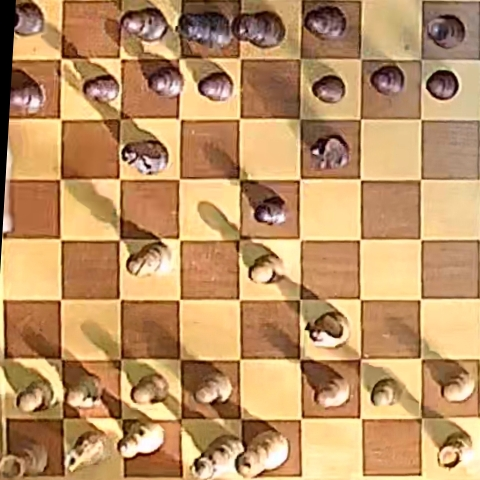black-bishop: (122, 7, 169, 41), (304, 5, 347, 39)
black-king: (232, 12, 284, 48)
black-knight: (122, 140, 168, 174), (310, 135, 349, 169)
black-pawn: (148, 66, 183, 97), (10, 82, 45, 113), (370, 65, 405, 95), (426, 70, 459, 100), (199, 72, 233, 101), (84, 75, 119, 103), (312, 75, 346, 103), (254, 197, 287, 225)
black-queen: (178, 11, 233, 48)
black-rook: (426, 15, 465, 49), (14, 2, 44, 35)
white-bishop: (119, 421, 163, 458), (127, 242, 171, 276)
white-king: (238, 430, 289, 478)
white-knight: (65, 431, 109, 473), (307, 310, 350, 349)
white-pawn: (193, 369, 233, 404), (311, 374, 350, 408), (66, 374, 102, 410), (16, 379, 54, 413), (438, 368, 475, 402), (131, 373, 169, 405), (249, 253, 284, 284), (371, 378, 399, 407)
white-queen: (192, 434, 244, 479)
white-rook: (1, 440, 46, 477), (438, 433, 474, 470)
